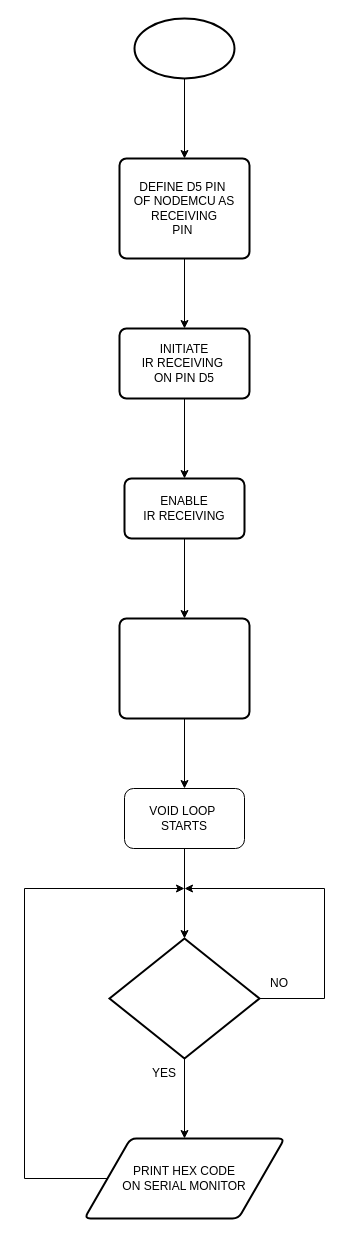
The diagram is 350 pixels wide and 1236 high, and some of its shapes have lost their labels. The centre of each missing label's shape, as x and y in pixels:
"RECEIVED DATA IS DECODED" goes at pixel 184 998.
"SERIAL BEGIN AT BOADRATE OF 9600" goes at pixel 184 668.
"START" goes at pixel 184 48.
